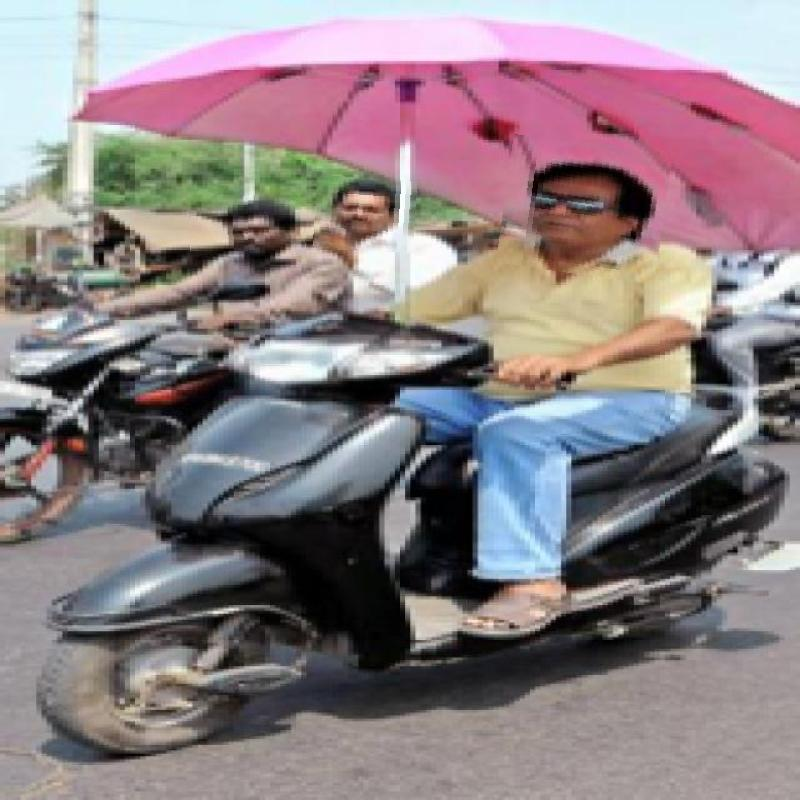nohelmet: (500, 140, 668, 280), (190, 195, 306, 274), (314, 176, 416, 252)
